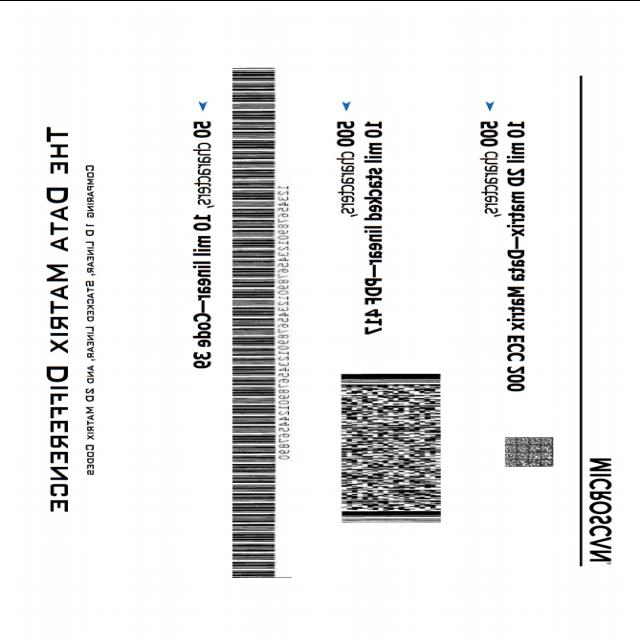DataMatrix: (499, 434, 558, 469)
